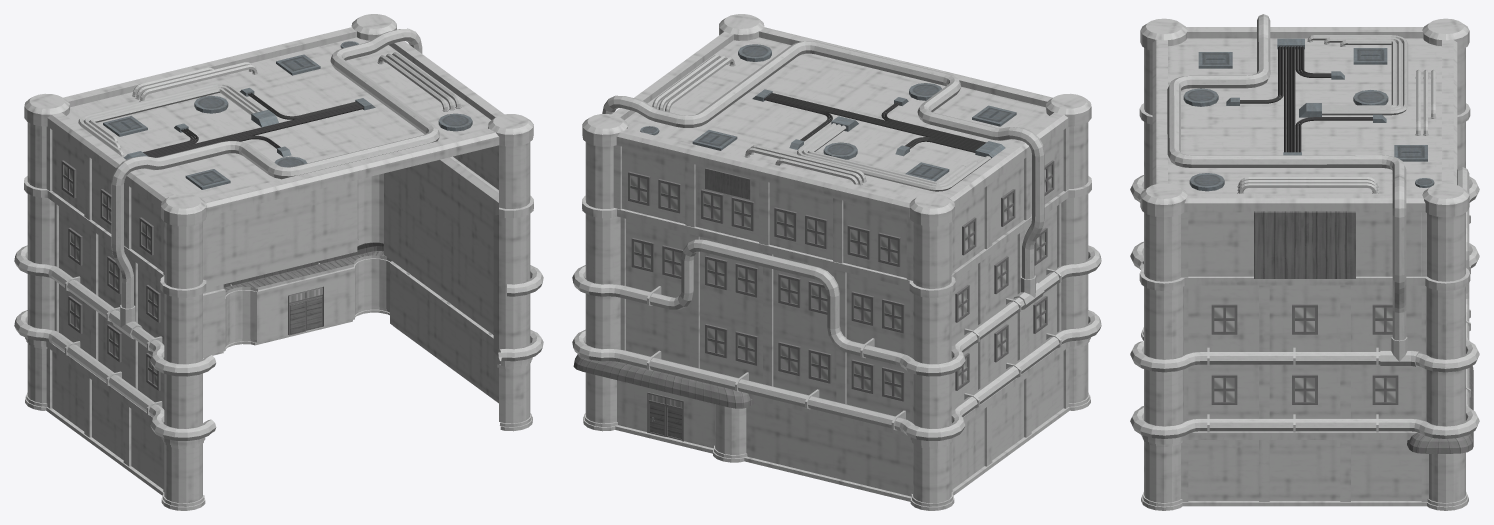
File: REDUCTION_SM_ENV_KNVLLG_CommonBuilding_F_1.mo.fbx
The picture shows the model from 3 angles, left to right: view 1: azimuth 30°, elevation 25°; view 2: azimuth 150°, elevation 25°; view 3: azimuth 270°, elevation 25°; orthographic projection. The views are drawn at different scales.
Visible parts, largest first — view 1: REDUCTION_SM_ENV_KNVLLG_CommonBuilding_F_1.mo; view 2: REDUCTION_SM_ENV_KNVLLG_CommonBuilding_F_1.mo; view 3: REDUCTION_SM_ENV_KNVLLG_CommonBuilding_F_1.mo.
Boxes of the visible parts, <box> form: REDUCTION_SM_ENV_KNVLLG_CommonBuilding_F_1.mo: <box>14,14,543,510</box>; REDUCTION_SM_ENV_KNVLLG_CommonBuilding_F_1.mo: <box>572,14,1101,510</box>; REDUCTION_SM_ENV_KNVLLG_CommonBuilding_F_1.mo: <box>1130,14,1479,510</box>.
Size of the model in its own units: 33.95 by 26.03 by 25.89.
